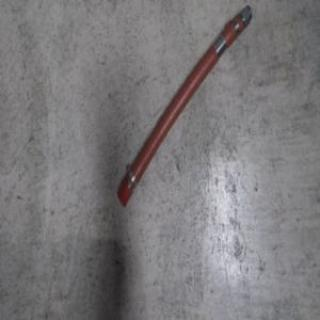Hosetrack_idkeyframe: (115, 3, 252, 209)
